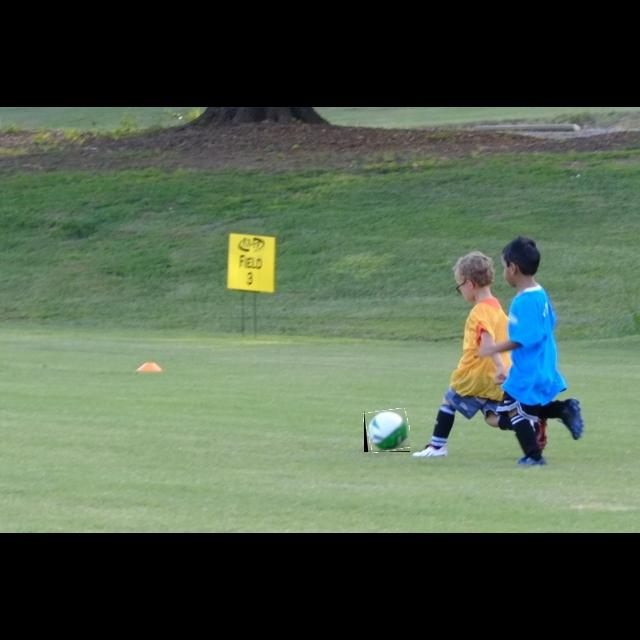Football: (364, 410, 410, 452)
